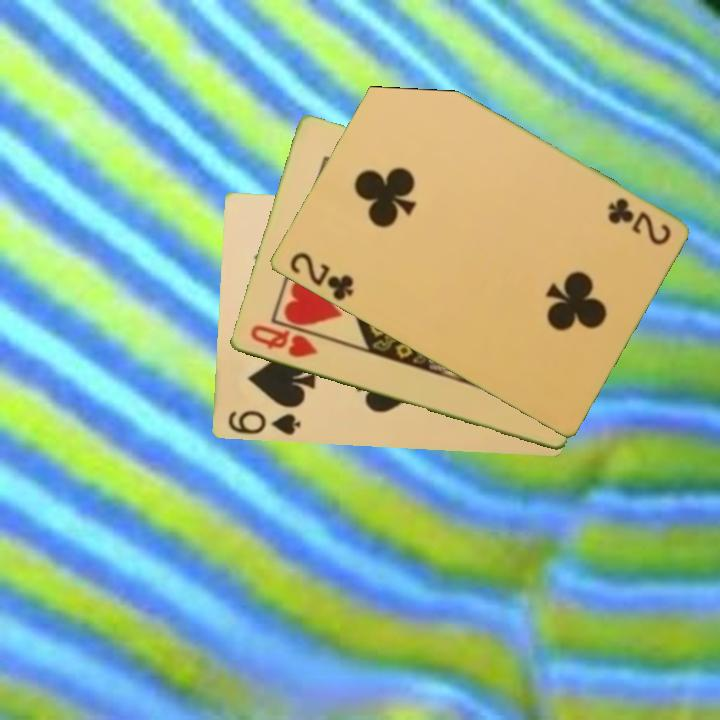2c: (285, 248, 357, 304), (603, 194, 674, 249)
6s: (224, 407, 303, 439)
Qh: (246, 321, 320, 361)
